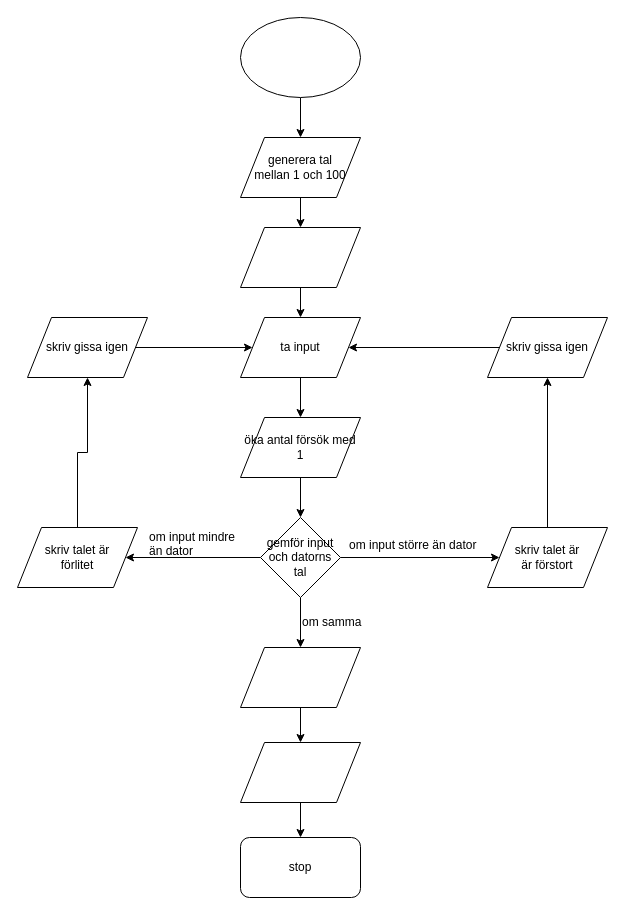
Image size: 625x915. Some labels were removed from this diagram. The centre of each missing label's shape, as x and y in pixels:
skriv antal försök: [300,772]
skriv du gissade rätt: [300,677]
start: [300,57]
säg skriv ett tal mellan 1 och 100: [300,257]
